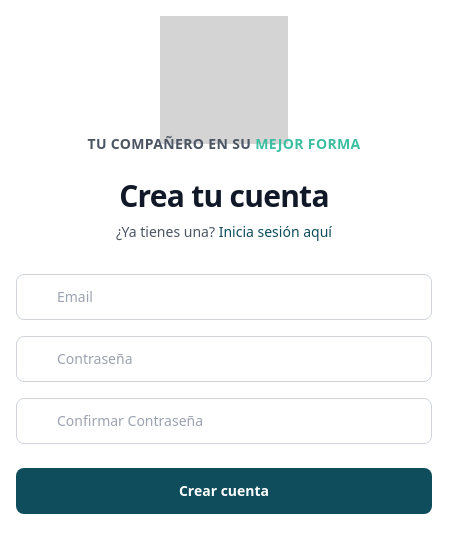
Scenario: RegisterPage - HU1: Registro de Usuario › muestra "El correo electrónico no es válido" con email inválido
In the field with placeholder "Email": (224, 297) [16,274,432,320], type "invalido"
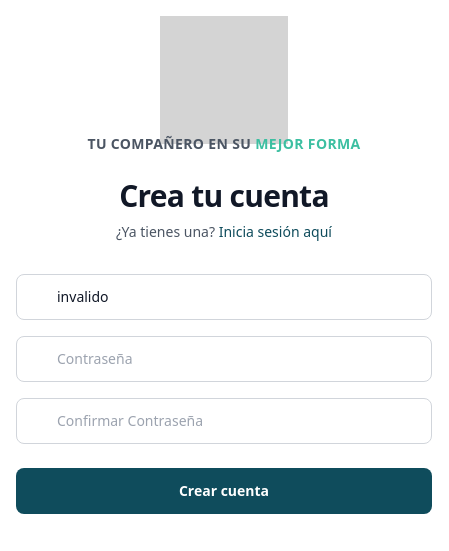
In the password field with placeholder "Contraseña": (224, 359) [16,336,432,382], type "ValidPass1!"
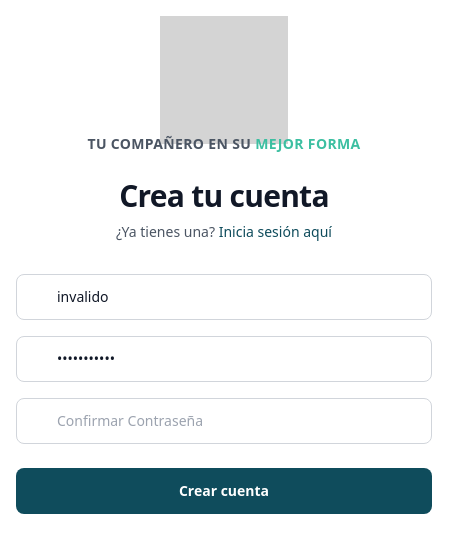
In the password field with placeholder "Confirmar Contraseña": (224, 421) [16,398,432,444], type "ValidPass1!"
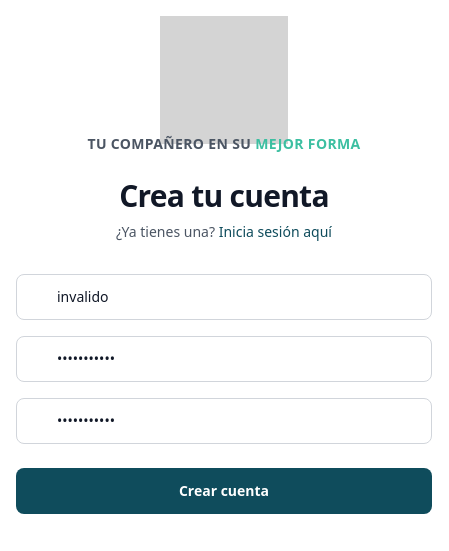
Click the button "Crear cuenta": (224, 491) [16,468,432,514]
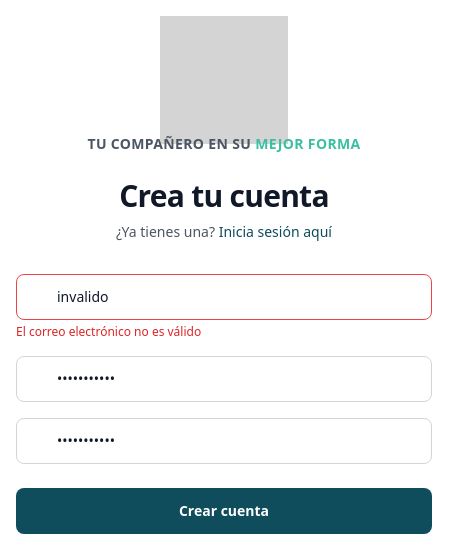
Result: the text "El correo electrónico no es válido" is shown at [16,323,201,340]
